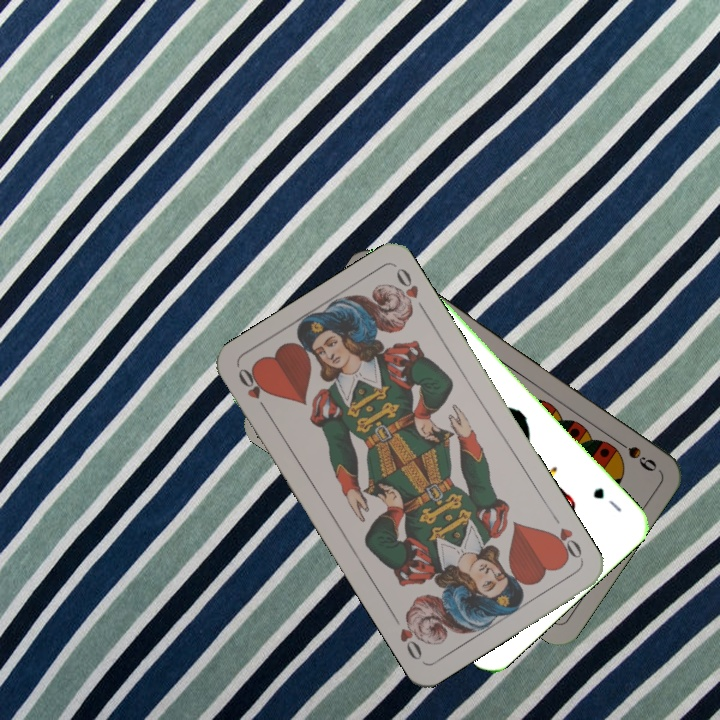GU: (589, 483, 625, 515)
HO: (546, 510, 586, 563), (234, 364, 272, 417)
S9: (608, 433, 660, 475)
